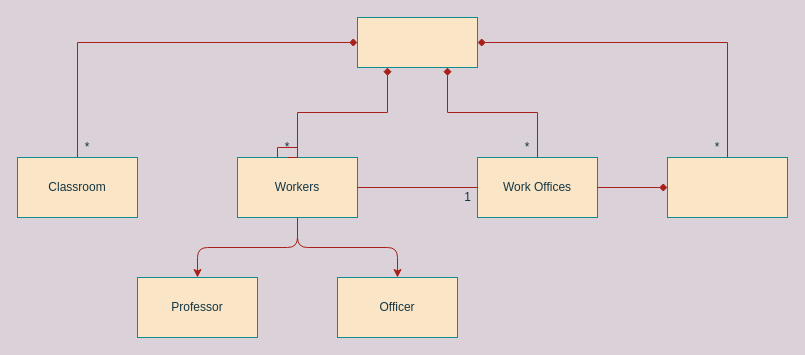
Some shapes in this 805 by 355 pixel diagram are drawn without their labels. Each missing label, with the centre of its shape:
"Departments" belongs at (727,187).
"University" belongs at (417,42).
